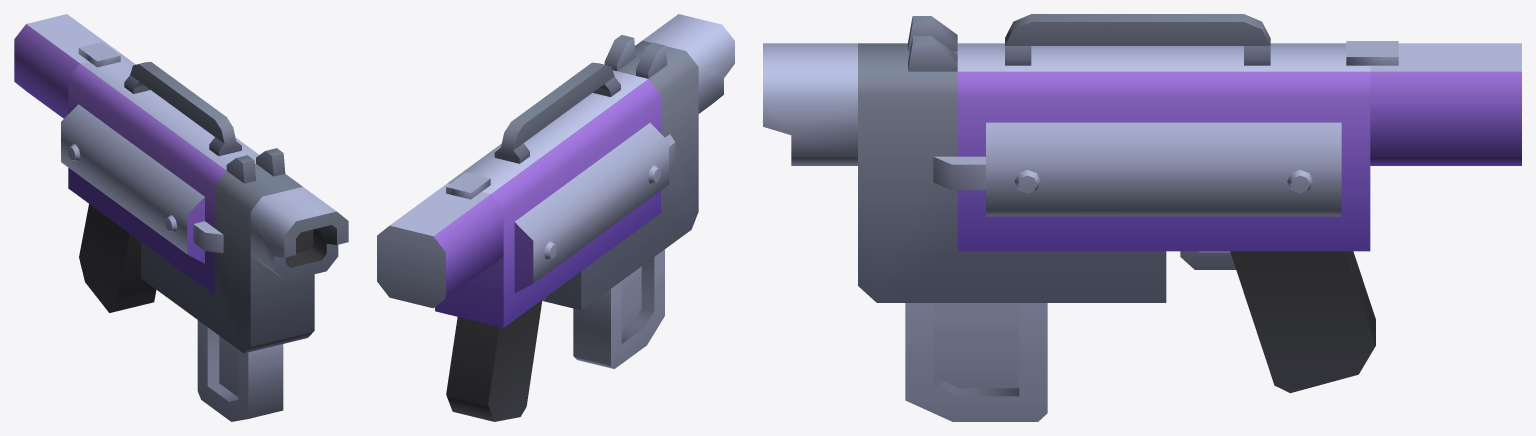
3 views of the same model, side by side, from view 1: azimuth 30°, elevation 25°; view 2: azimuth 150°, elevation 25°; view 3: azimuth 270°, elevation 25° (orthographic). The views are drawn at different scales.
Visible parts, largest first — view 1: blaster-a; view 2: blaster-a; view 3: blaster-a.
Boxes of the visible parts, x1,y1,x2,y2 form: blaster-a: (14, 14, 348, 421); blaster-a: (377, 14, 734, 421); blaster-a: (763, 14, 1521, 421).
Size of the model in its own units: 0.1057 by 0.2622 by 0.46.
1 material, 1 textured.
